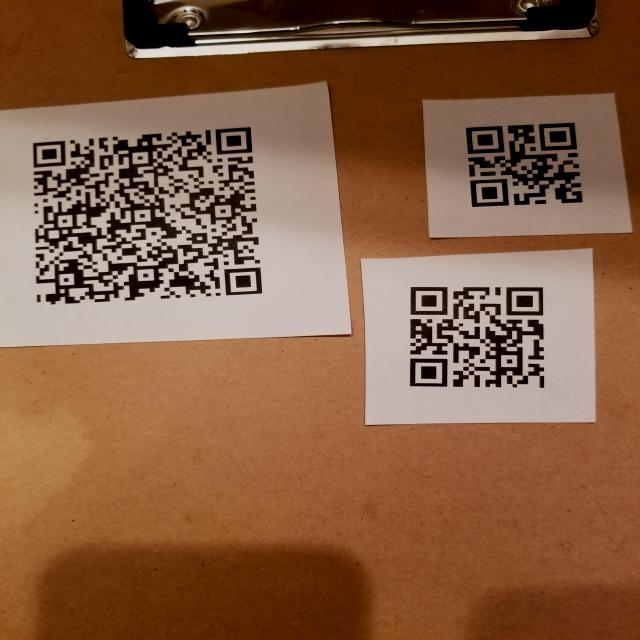QRCode: (19, 122, 274, 314), (400, 279, 559, 399), (451, 115, 593, 213)
